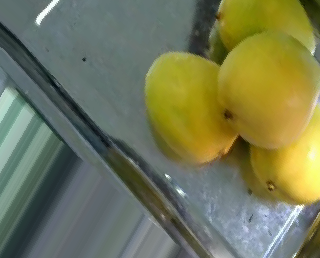Mango: (143, 50, 243, 163), (218, 32, 317, 145), (243, 97, 320, 205), (218, 0, 319, 63)
